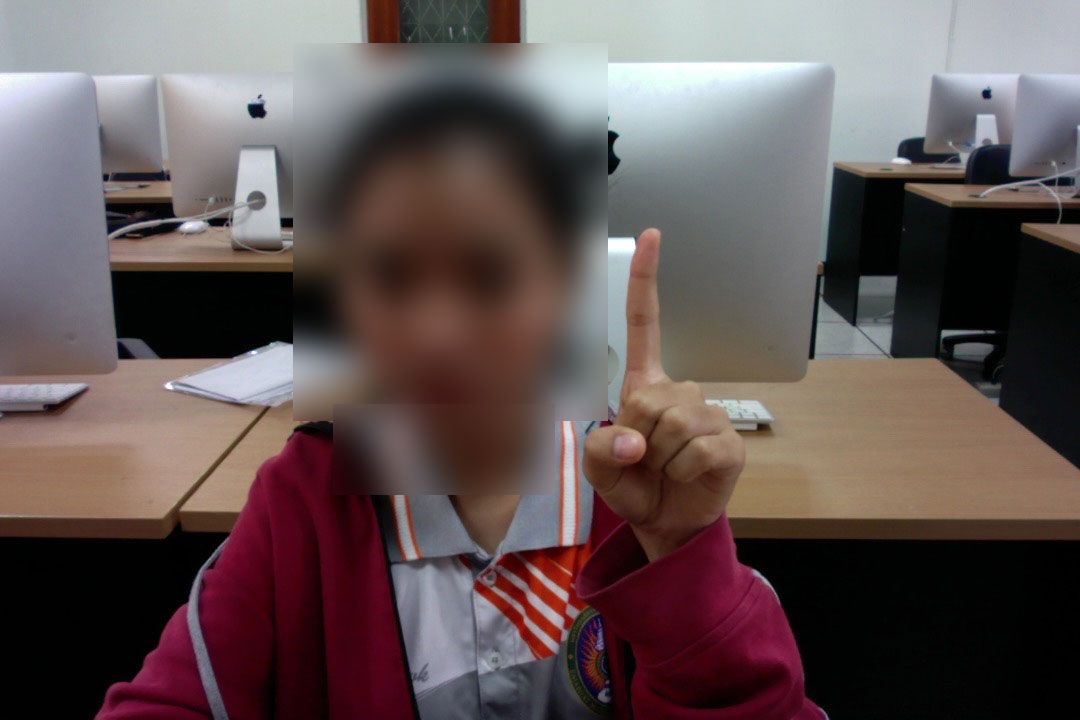lor: (575, 226, 765, 544)
